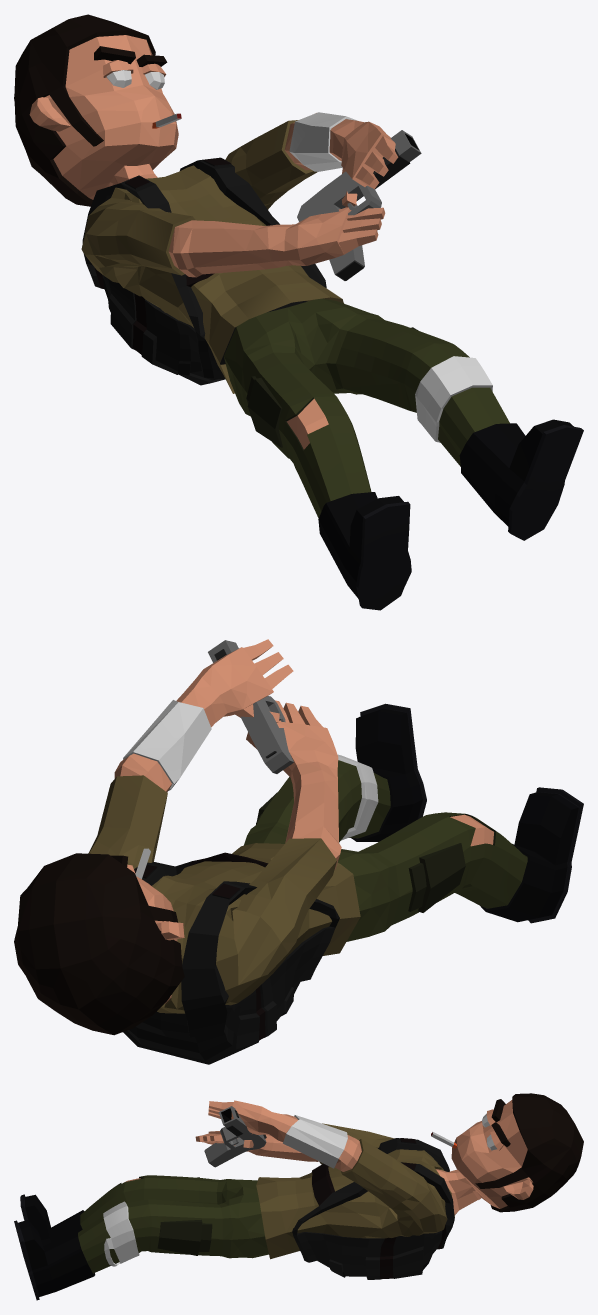
The model's file is frame_0114.obj.
The picture shows the model from 3 angles, top to bottom: view 1: azimuth 30°, elevation 25°; view 2: azimuth 150°, elevation 25°; view 3: azimuth 270°, elevation 25°; orthographic projection. The views are drawn at different scales.
Parts seen in each view (by area): view 1: Body, Gun; view 2: Body, Gun; view 3: Body, Gun.
Part boxes in pixels (x1,y1,x2,y2): Body: (14,14,583,610); Gun: (297,130,421,280); Body: (14,639,583,1064); Gun: (208,640,293,773); Body: (14,1093,583,1300); Gun: (204,1106,266,1167).
Bounding box in the file's own units: 1.23 × 1.82 × 4.14.
